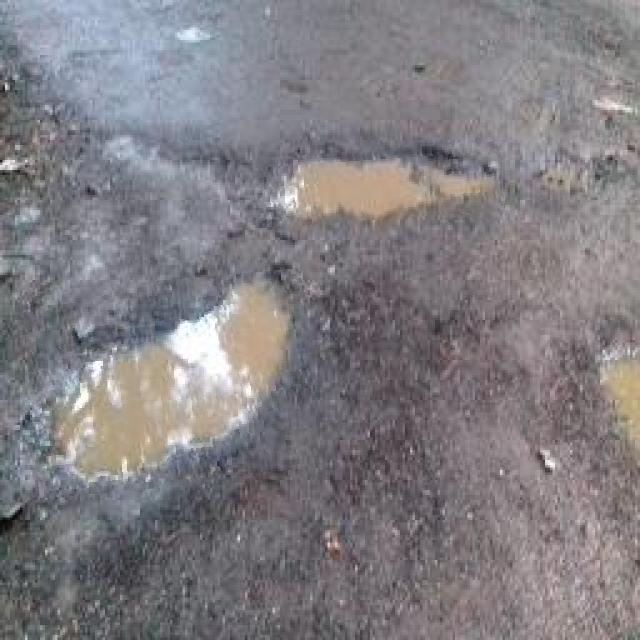puddle: (27, 275, 317, 494), (254, 147, 505, 225)
